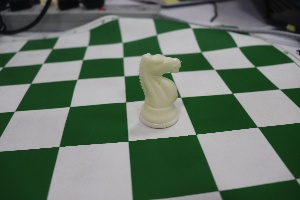white_horse: (129, 41, 196, 132)
